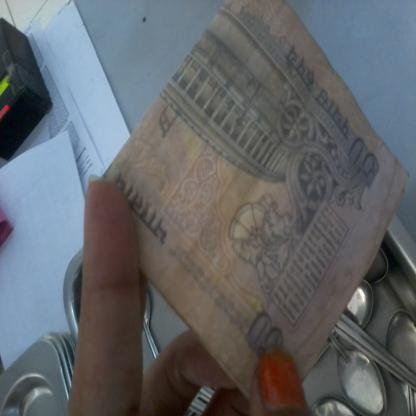Old50Back: (101, 0, 410, 406)
